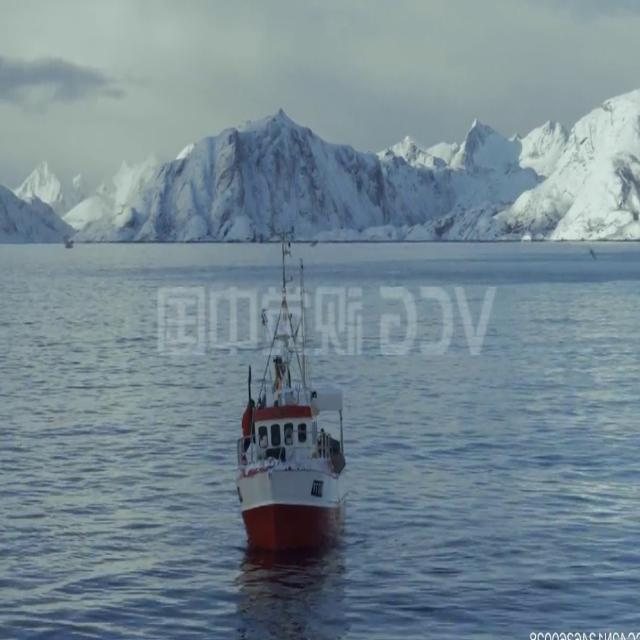houseboat: (236, 238, 345, 548)
